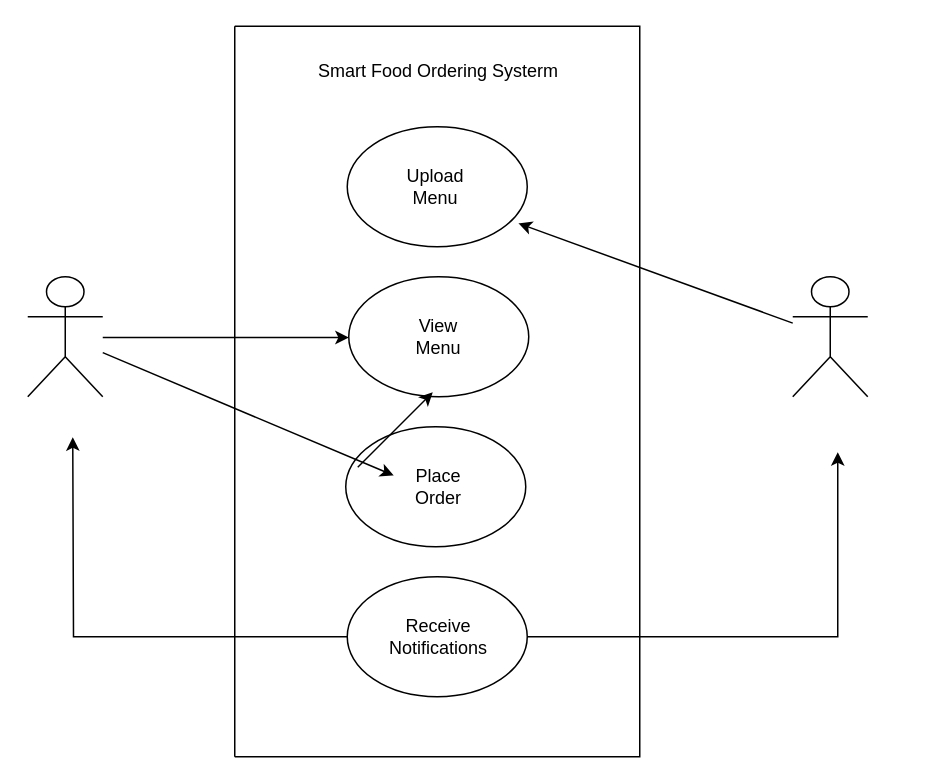
Image size: 929x783. Some labels were removed from this diagram. Here are the shapes that lost their labels. From the top down, the box of each, then its label:
(26, 275, 103, 397): Customer
(791, 275, 868, 397): Restaurant Owner
